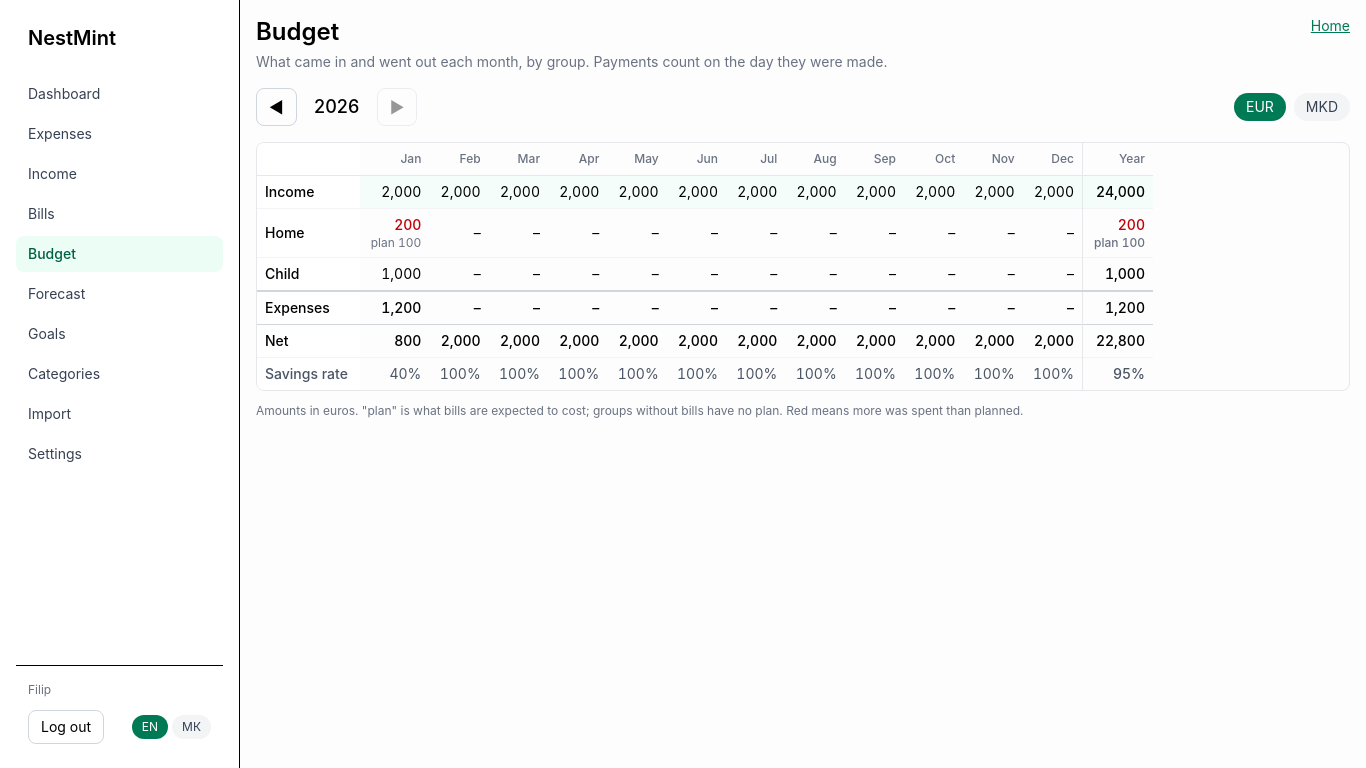
the budget grid page › goes back a year, and cannot go past this year
Expected: the button named "Next year" is disabled, [377,88,417,126]
Step 1. Click the button named "Previous year" → click(276, 107), box [256,88,297,126]
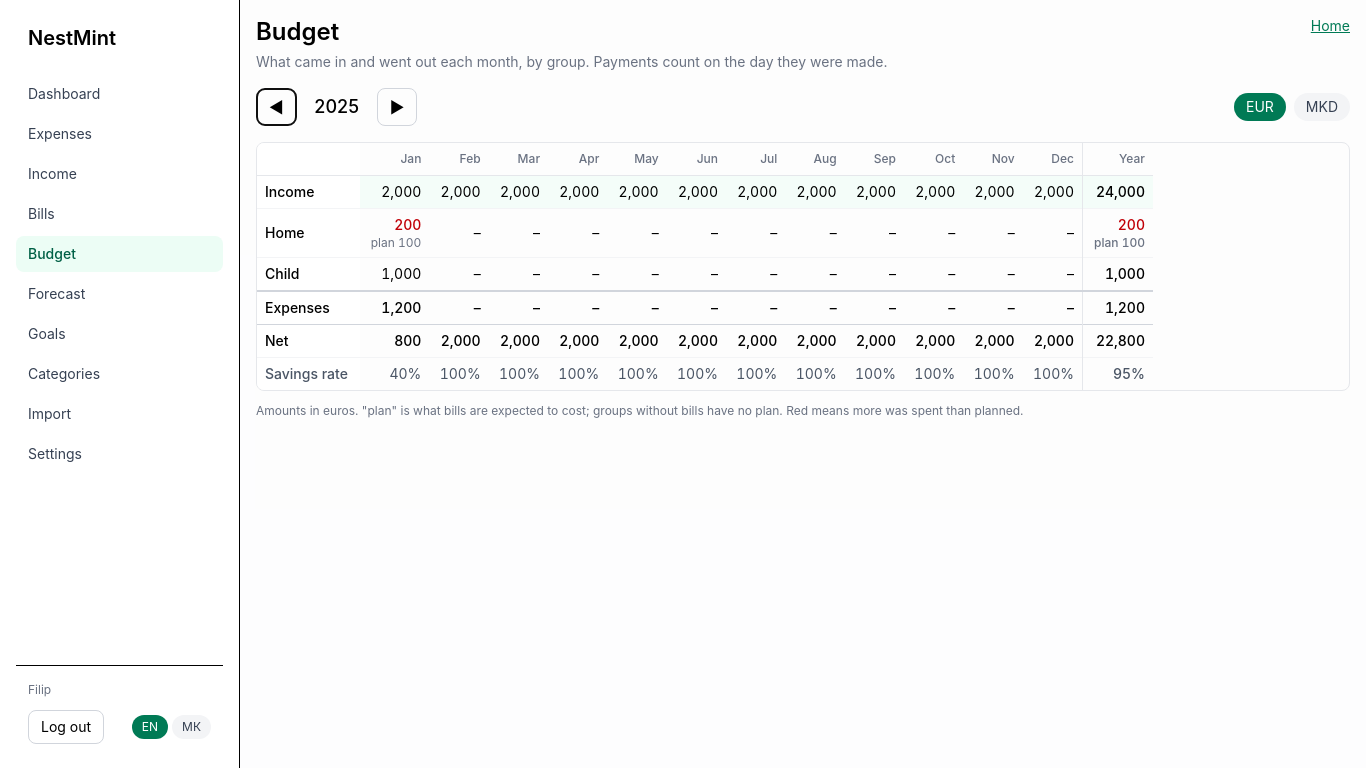
Expected: the table named "Budget 2025" is shown, [257,143,1153,390]
Now the heading "2025" is shown, box [314,96,359,117]
Now the button named "Next year" is enabled, box [377,88,417,126]
